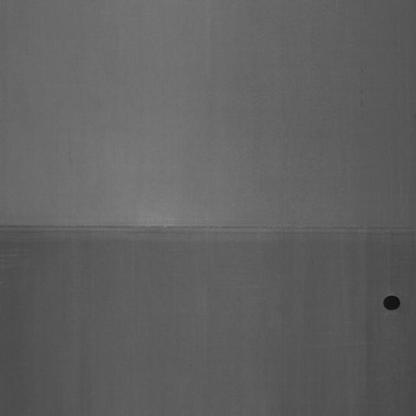punching_hole: (378, 288, 404, 319)
welding_line: (3, 210, 416, 250)
